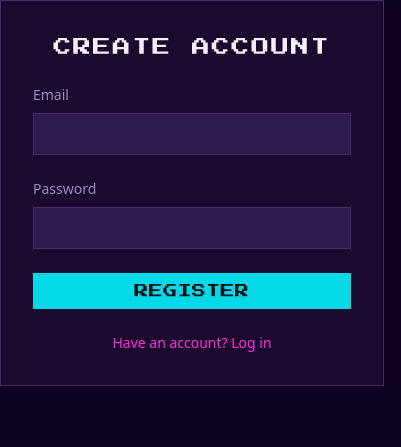
RegisterPage › displays the error message when registration fails
Type "x@x.com" into the field labelled "Email" at (192, 134), box [33,113,351,155]
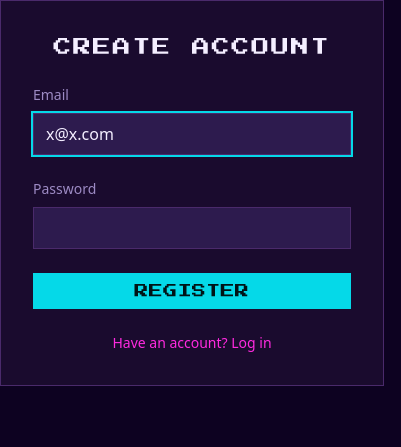
Type "short" into the password field labelled "Password" at (192, 228), box [33,207,351,249]
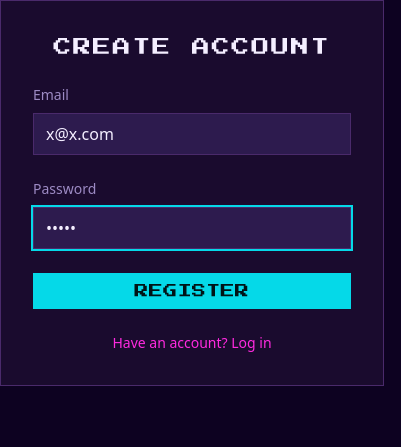
Click the button "Register" at (192, 291), box [33,273,351,309]
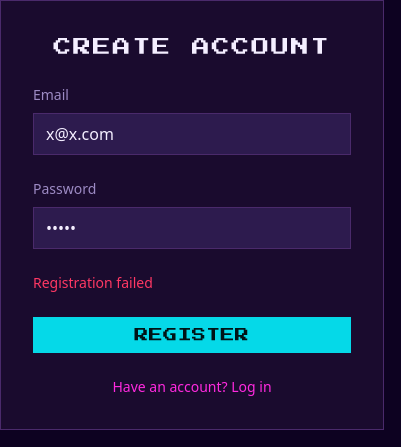
Expected: the text "Registration failed" is shown, [33,273,153,292]
